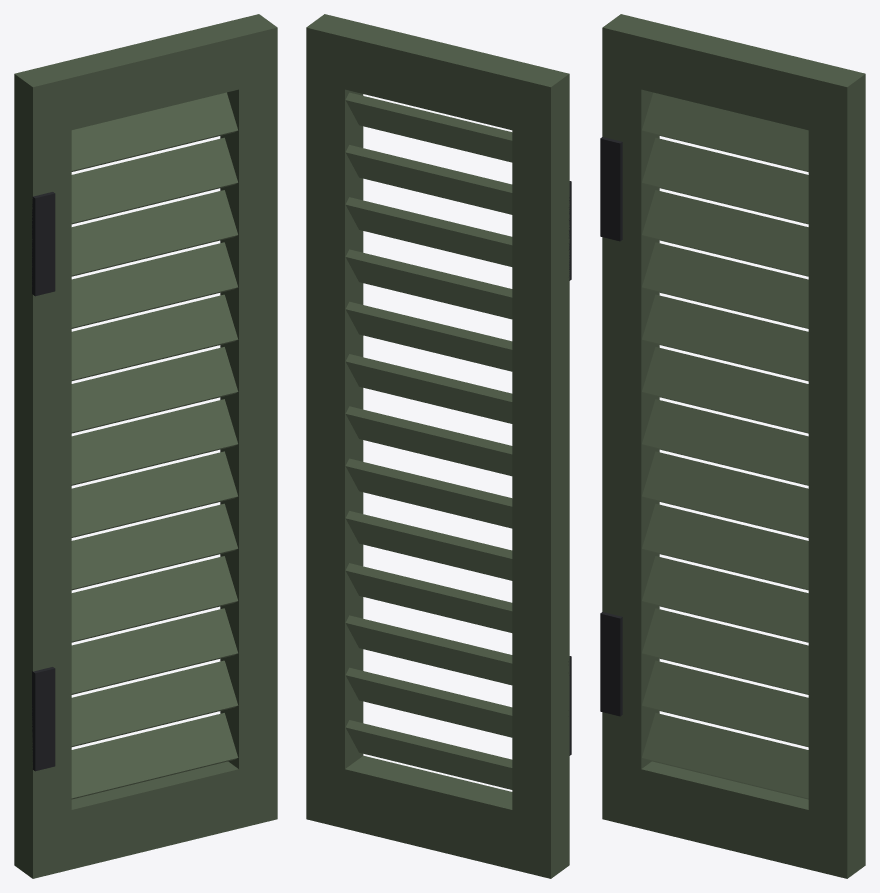
Rendered from SM_Wall_WindowShutter_Left_01.fbx.
3 renders of one model, left to right at view 1: azimuth 30°, elevation 25°; view 2: azimuth 150°, elevation 25°; view 3: azimuth 330°, elevation 25°, orthographic.
Visible parts, largest first — view 1: SM_Wall_WindowShutter_Left_01; view 2: SM_Wall_WindowShutter_Left_01; view 3: SM_Wall_WindowShutter_Left_01.
Boxes of the visible parts, left/top/right/bottom form: SM_Wall_WindowShutter_Left_01: left=14, top=14, right=277, bottom=878; SM_Wall_WindowShutter_Left_01: left=306, top=14, right=571, bottom=878; SM_Wall_WindowShutter_Left_01: left=600, top=14, right=865, bottom=878.
Size of the model in its own units: 0.366 by 1.13 by 0.054.
Materials: 1 (1 with a texture image).
